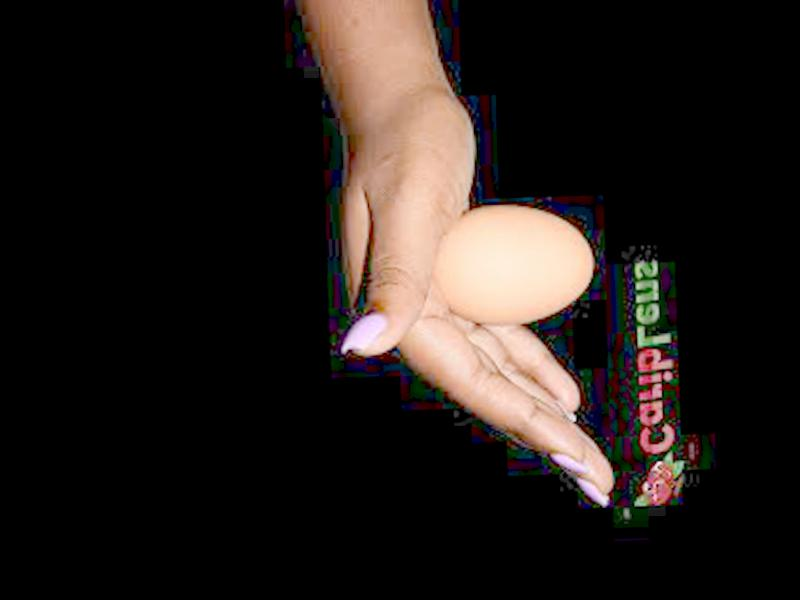Eggs: (433, 202, 595, 328)
